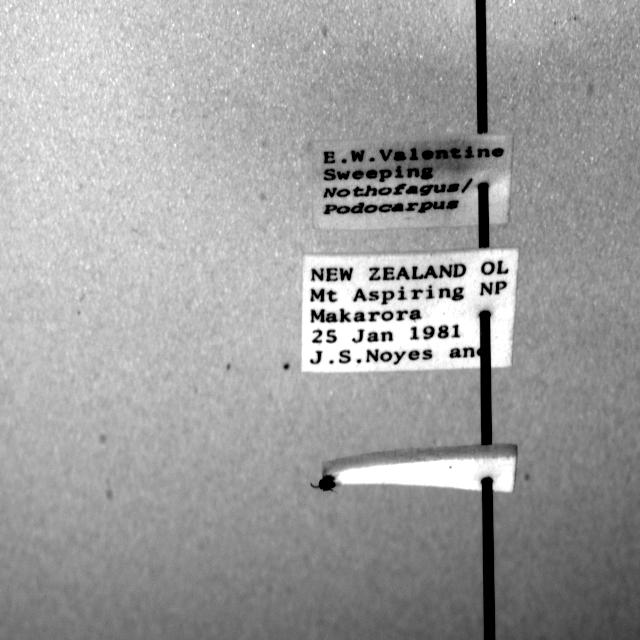typed_label: (301, 248, 519, 373), (312, 133, 512, 229)
